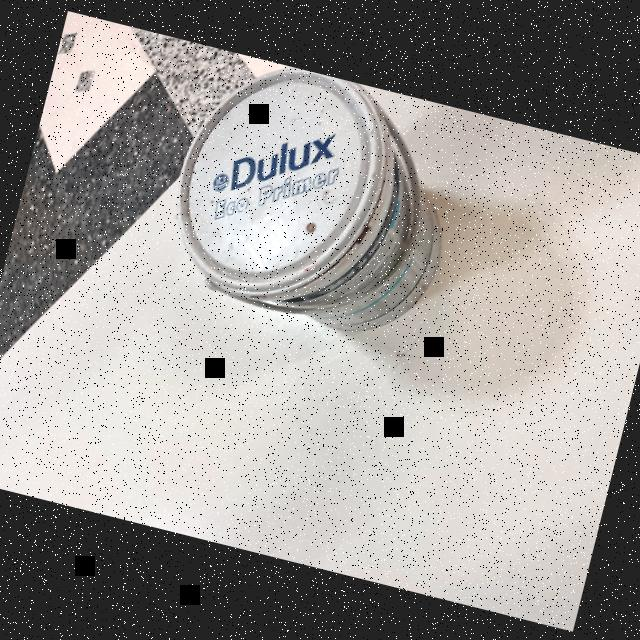paint_bucket: (147, 46, 476, 356)
